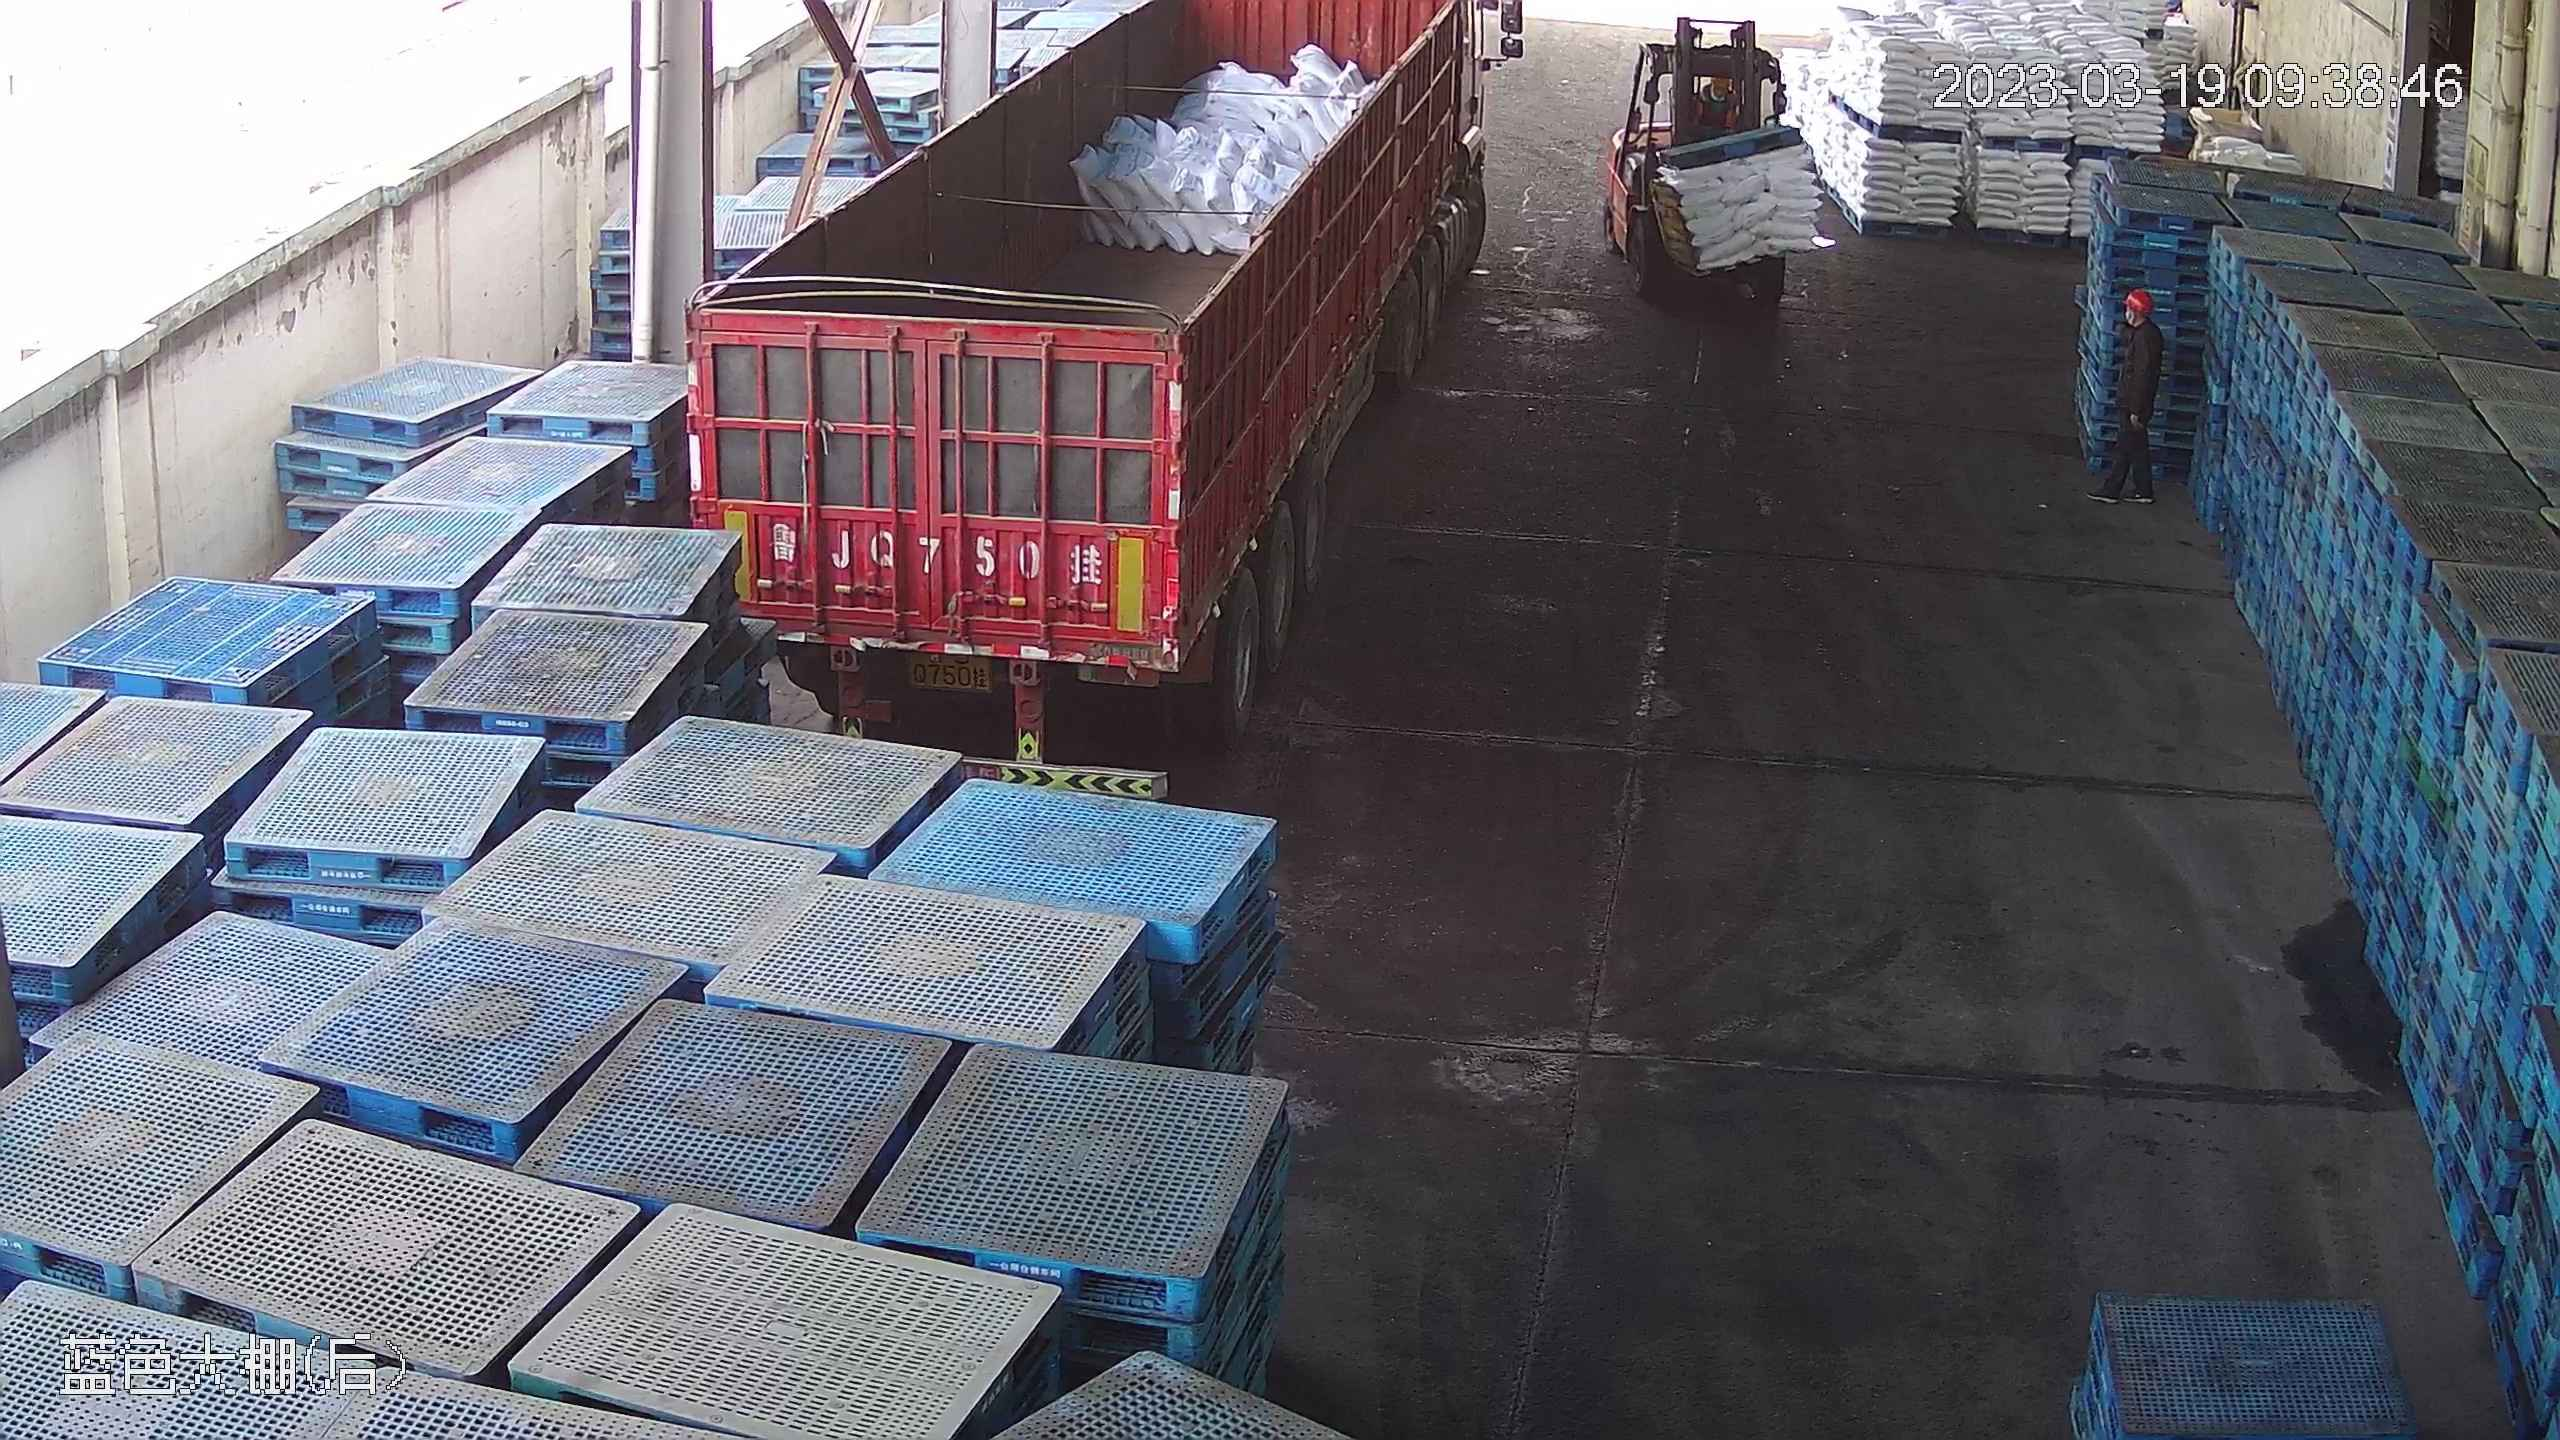head: (2110, 284, 2160, 350)
helmet: (2124, 285, 2152, 309)
people: (2097, 280, 2164, 507)
truck: (704, 0, 1516, 778)
